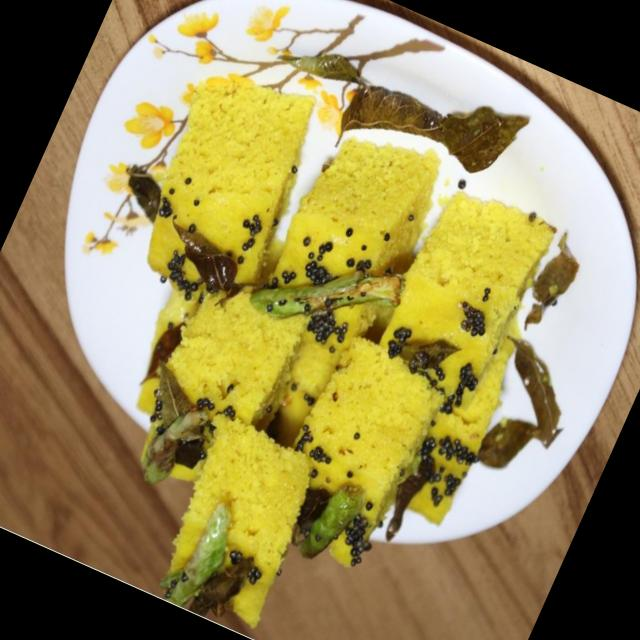dhokla: (9, 59, 580, 640)
